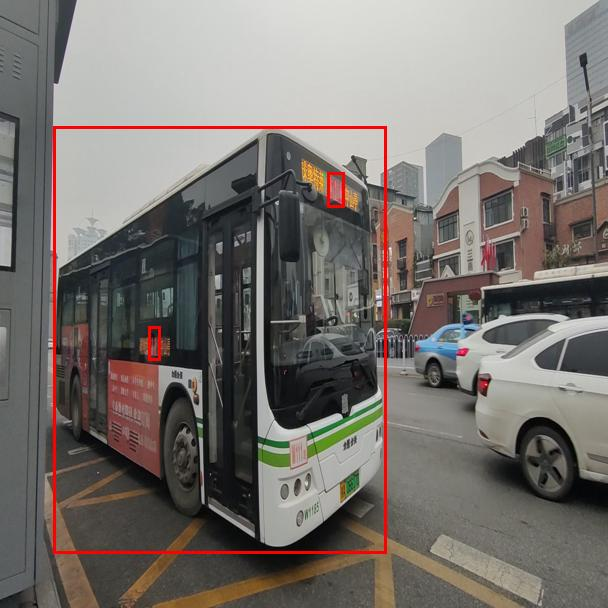bus: (53, 126, 386, 553)
screen: (327, 172, 344, 207), (148, 326, 160, 360)
